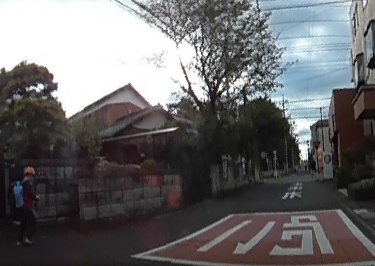person: (16, 165, 40, 241)
